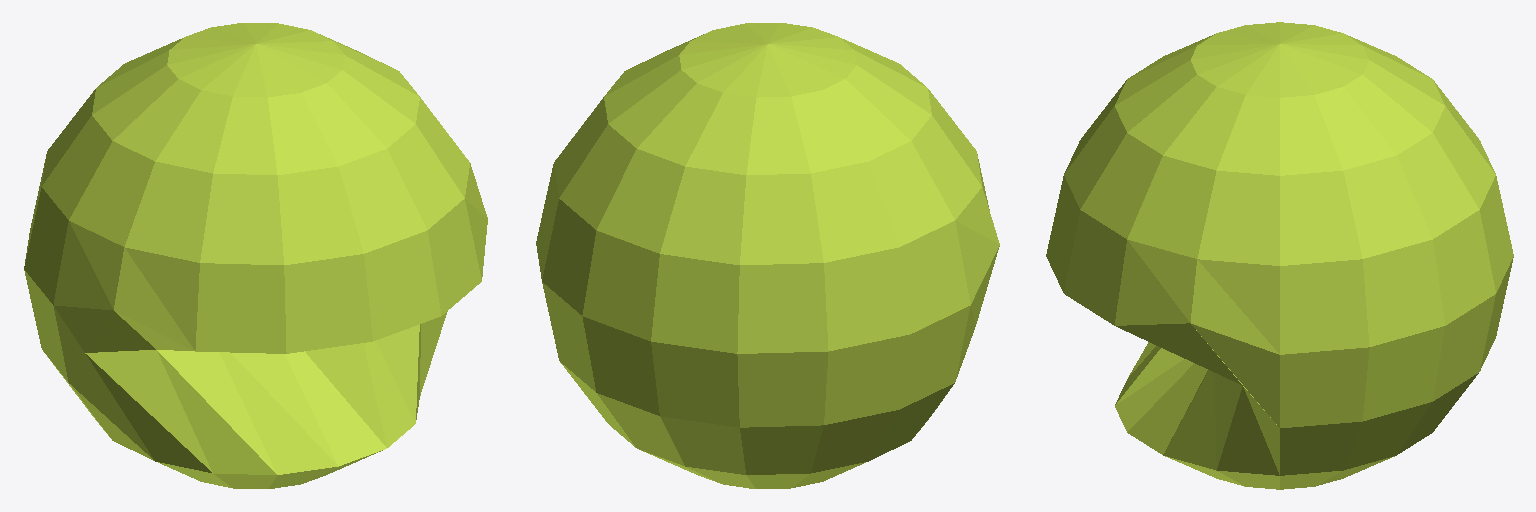
File: pugeman.obj
The picture shows the model from 3 angles: view 1: azimuth 30°, elevation 25°; view 2: azimuth 150°, elevation 25°; view 3: azimuth 270°, elevation 25°; orthographic projection.
Visible parts, largest first — view 1: Sphere001; view 2: Sphere001; view 3: Sphere001.
Part boxes in pixels (bbox=[...]): Sphere001: bbox=[24, 23, 487, 488]; Sphere001: bbox=[536, 23, 999, 488]; Sphere001: bbox=[1046, 22, 1513, 489].
Size of the model in its own units: 28.07 by 28.07 by 28.07.